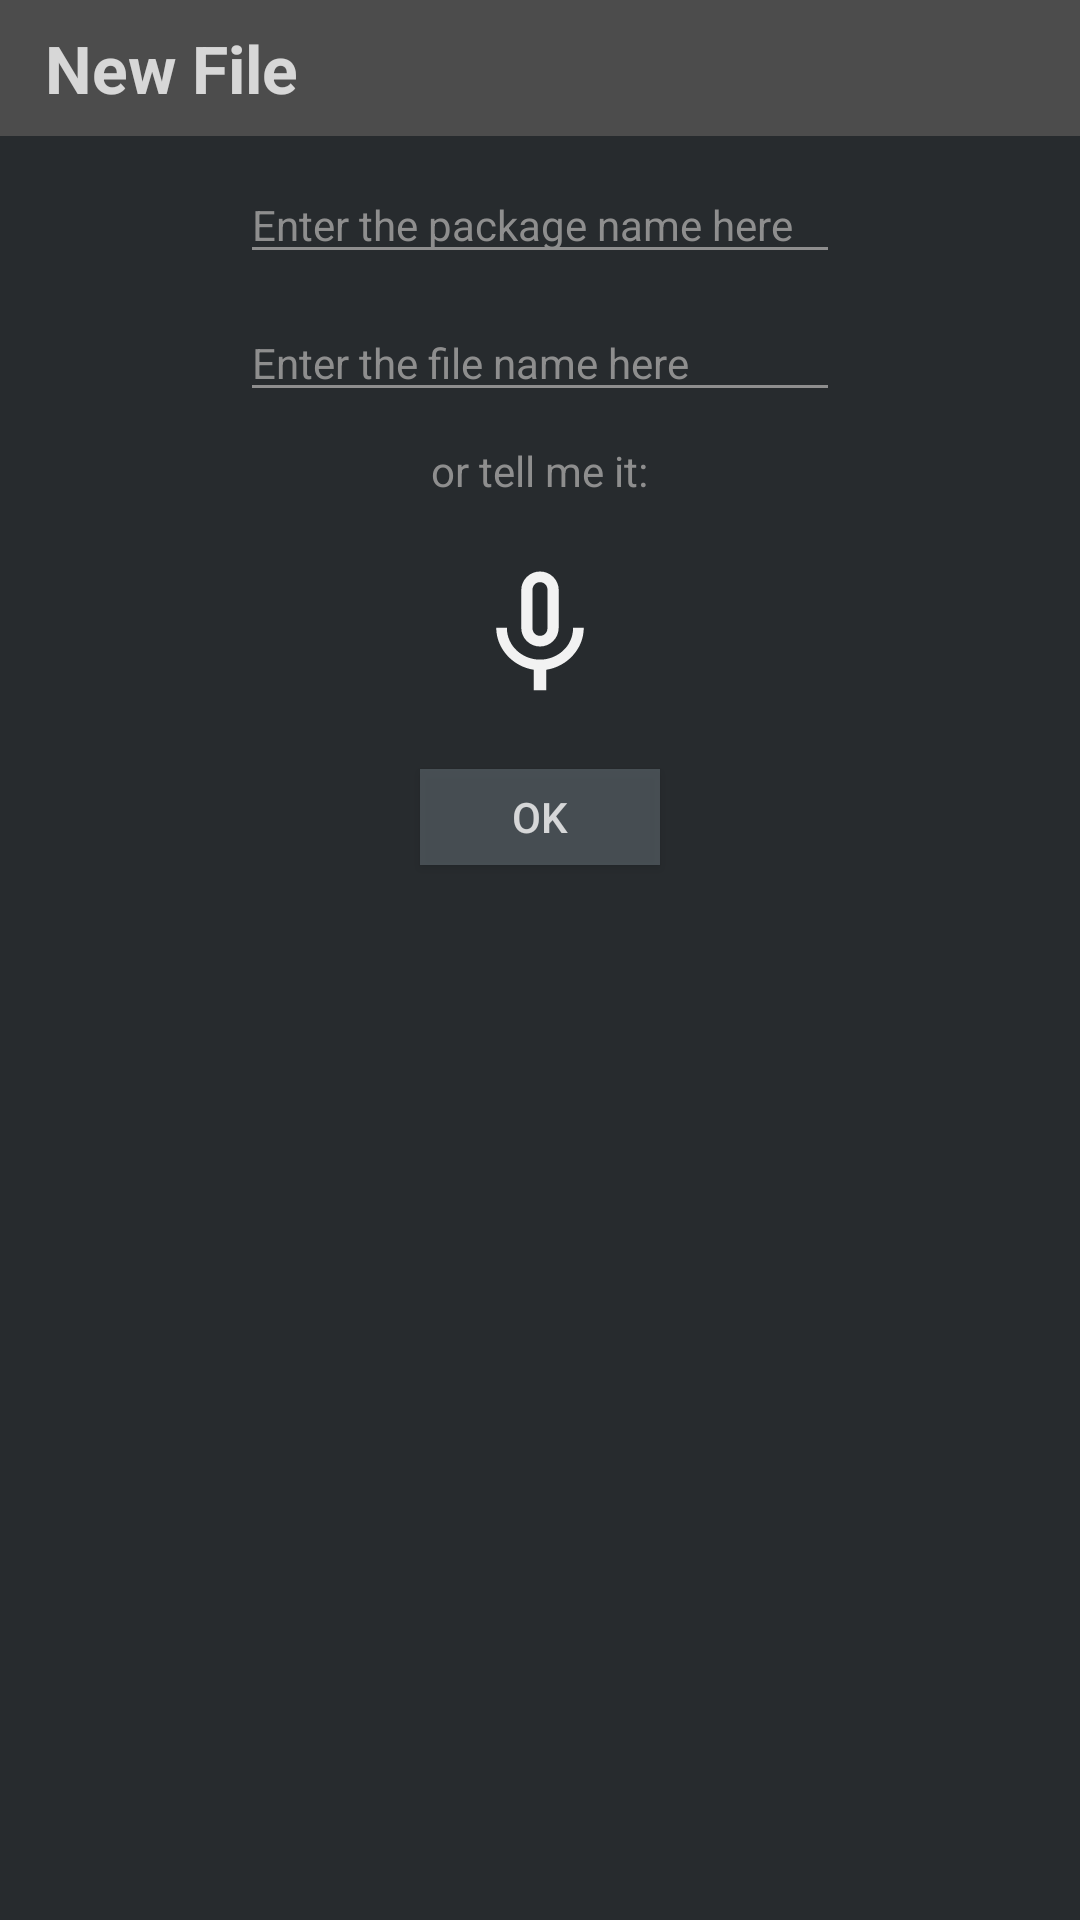

Icon click points for this 1080*1920 phone screenshot, format (x=x, y=y):
mic nf: (x=540, y=631)
